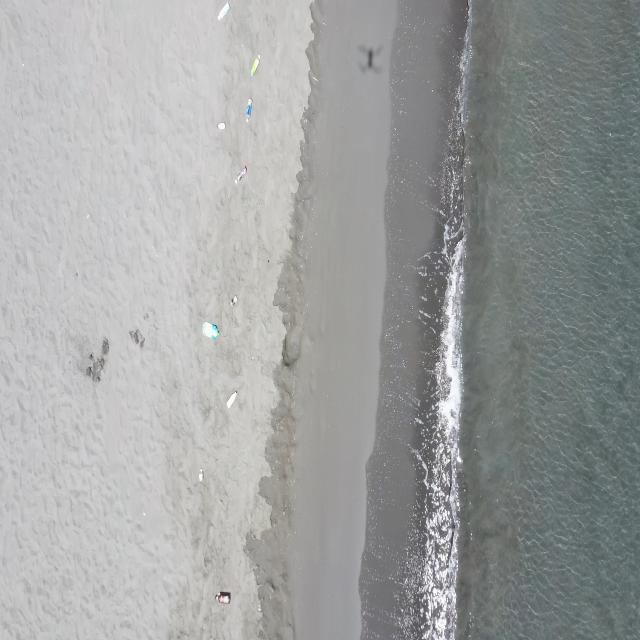Garbage: (85, 337, 108, 380), (85, 352, 103, 380), (201, 322, 219, 339), (128, 328, 143, 347), (235, 164, 247, 183), (249, 55, 260, 75), (215, 592, 230, 604), (244, 98, 252, 120), (218, 2, 227, 20), (226, 391, 236, 407), (100, 336, 108, 355), (199, 468, 203, 482), (216, 121, 224, 127), (231, 296, 236, 304)
